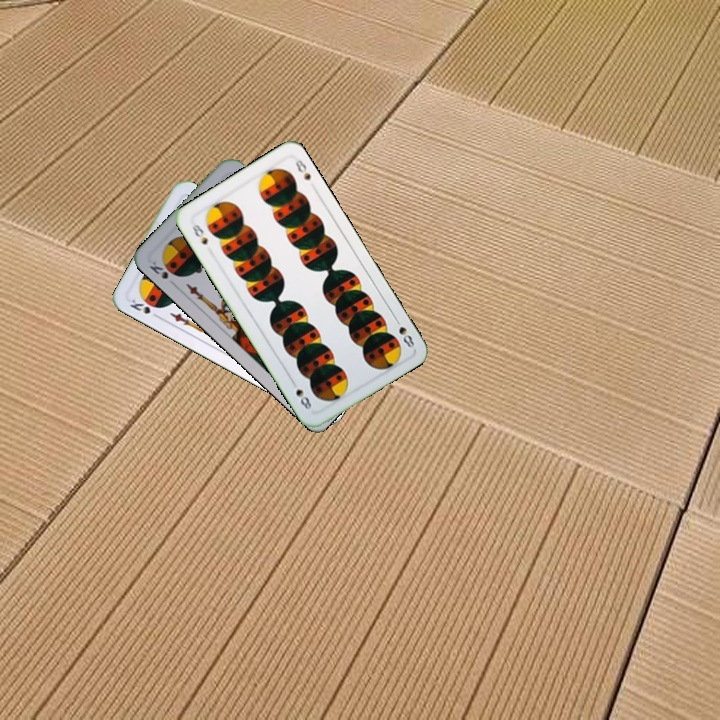S8: (390, 313, 417, 350), (186, 218, 211, 248)
SK: (126, 295, 163, 321), (145, 256, 171, 282)
